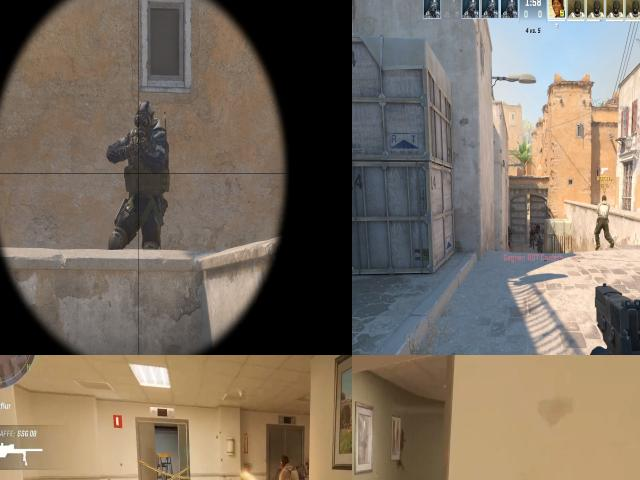CT: (120, 100, 164, 247)
CT-Head: (134, 102, 154, 132)
T: (269, 448, 305, 480)
T-Head: (274, 452, 294, 475)
